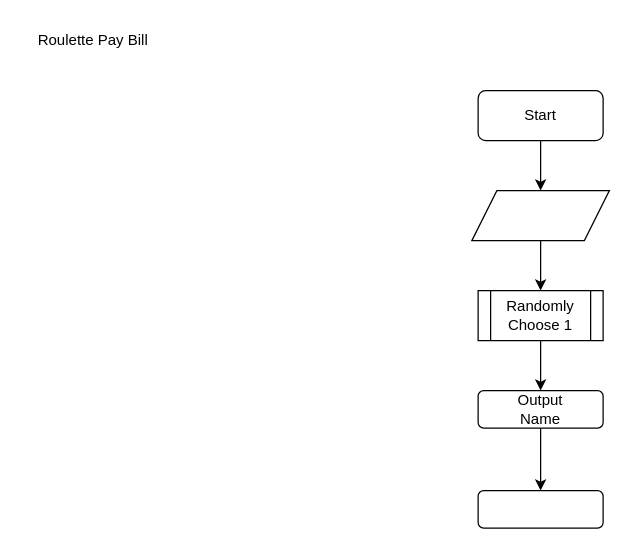
This 631x550 diagram has some shape labels left out. Each missing label, with the box of its shape:
Input Names: (471, 189, 609, 241)
Stop: (477, 489, 603, 528)
